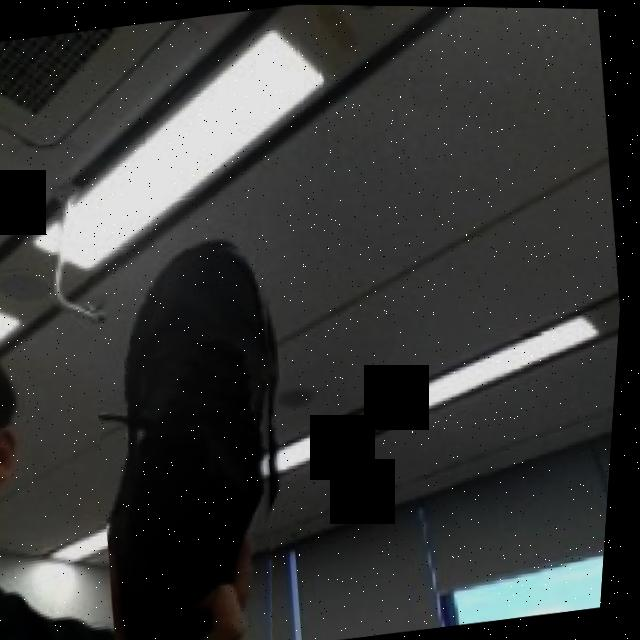shoe: (69, 226, 326, 640)
